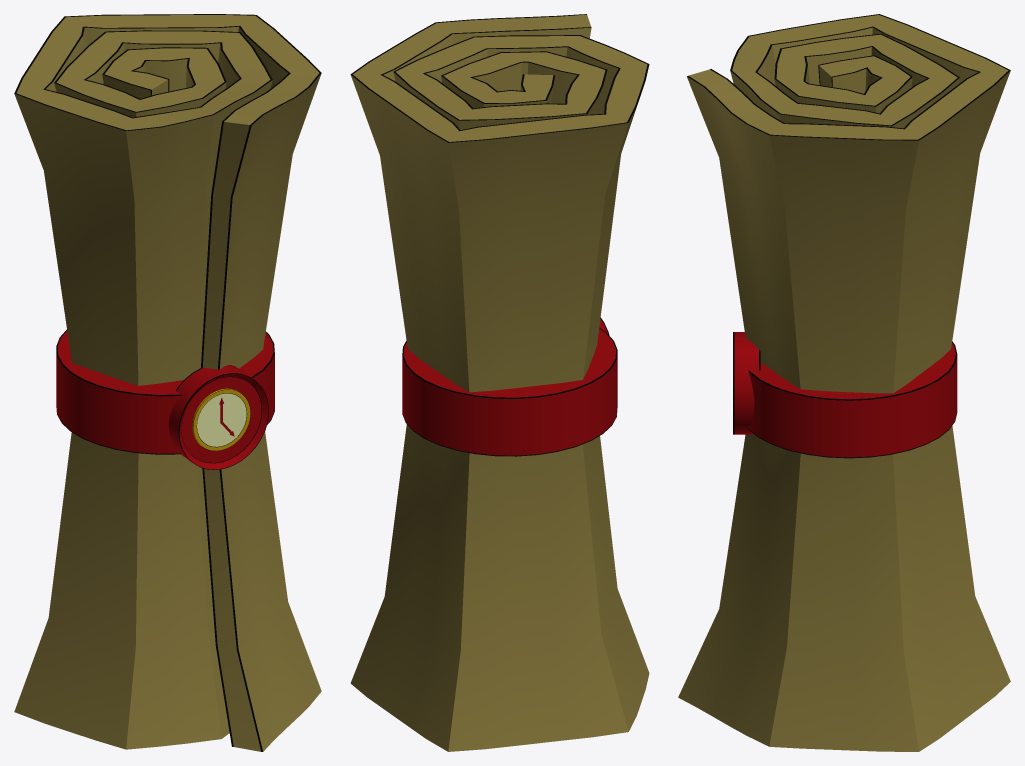
File: time scroll-samuelgragg.fbx
3 views of the same model, side by side, from view 1: azimuth 30°, elevation 25°; view 2: azimuth 150°, elevation 25°; view 3: azimuth 270°, elevation 25° (orthographic).
Parts seen in each view (by area): view 1: Plane.004, Cylinder.003, Cylinder.004, Cylinder.002; view 2: Plane.004, Cylinder.003; view 3: Plane.004, Cylinder.003, Cylinder.004.
Part boxes in pixels (left/top/right/bottom): Plane.004: left=14, top=14, right=321, bottom=751; Cylinder.003: left=56, top=329, right=274, bottom=454; Cylinder.004: left=168, top=365, right=268, bottom=469; Cylinder.002: left=192, top=388, right=250, bottom=450; Plane.004: left=350, top=14, right=649, bottom=751; Cylinder.003: left=402, top=328, right=617, bottom=456; Plane.004: left=678, top=14, right=1010, bottom=751; Cylinder.003: left=748, top=341, right=957, bottom=458; Cylinder.004: left=733, top=332, right=760, bottom=434.
Size of the model in its own units: 74.32 by 169 by 82.59.
